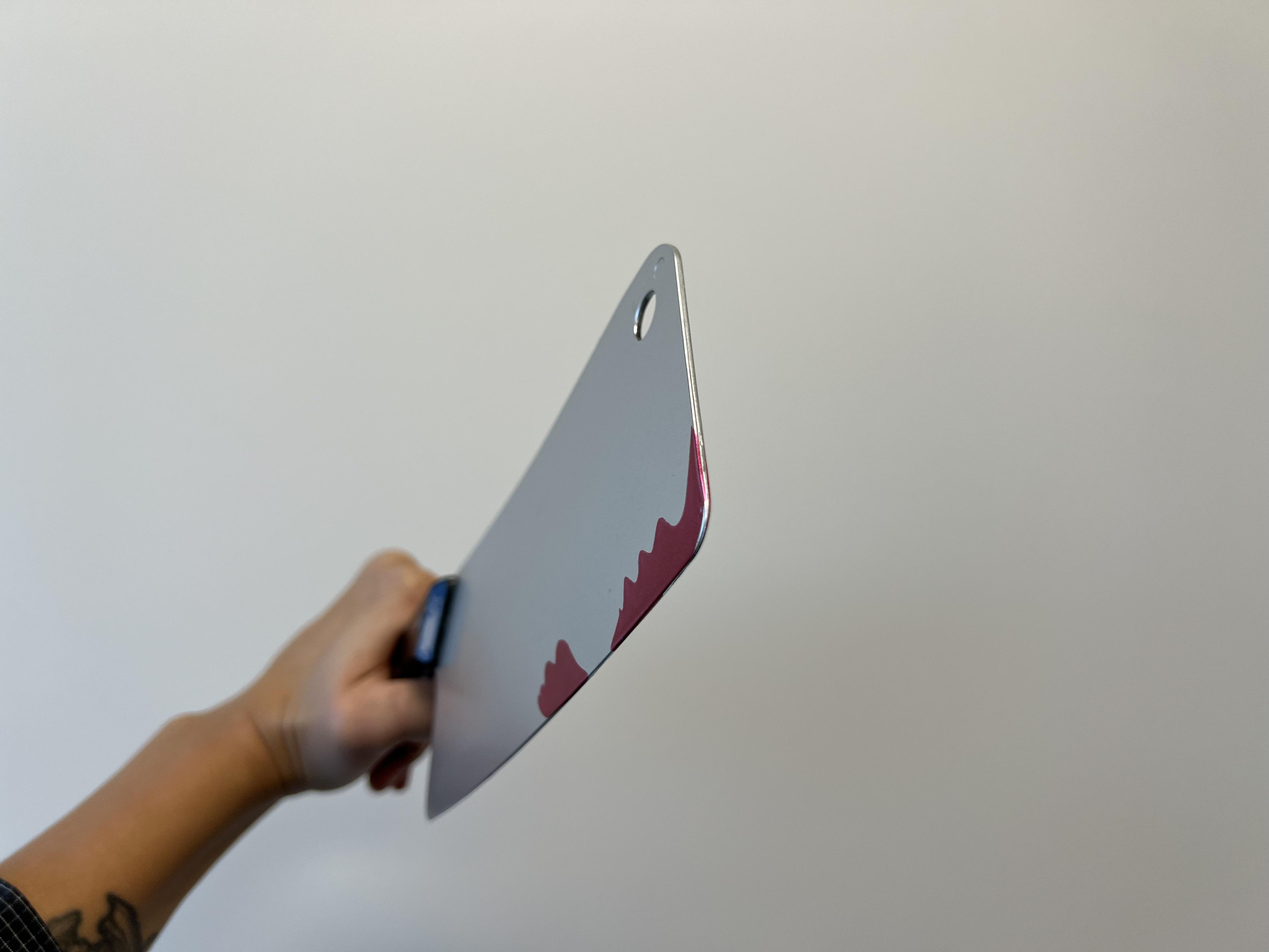Knife: (0, 549, 437, 952), (416, 247, 717, 820), (256, 552, 446, 789)
